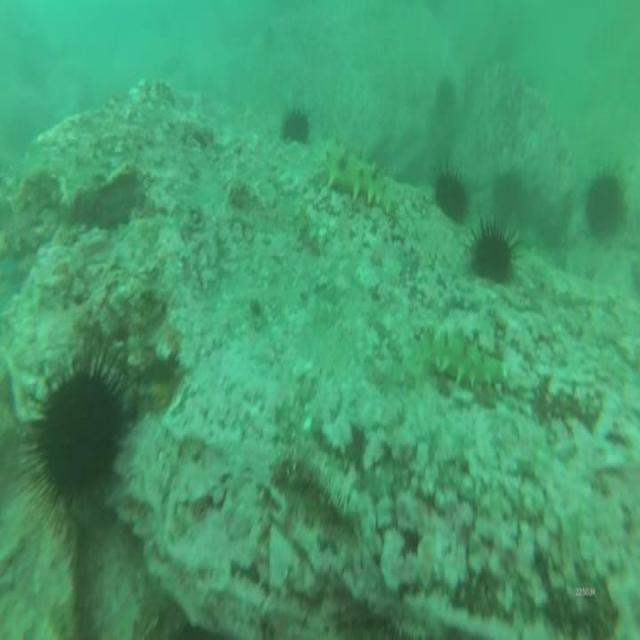echinus: (13, 349, 137, 531), (582, 161, 627, 247), (467, 215, 521, 284), (428, 160, 473, 229), (490, 168, 525, 225), (279, 103, 313, 147), (432, 74, 459, 119)
holothurian: (416, 316, 511, 398), (317, 134, 398, 216)
